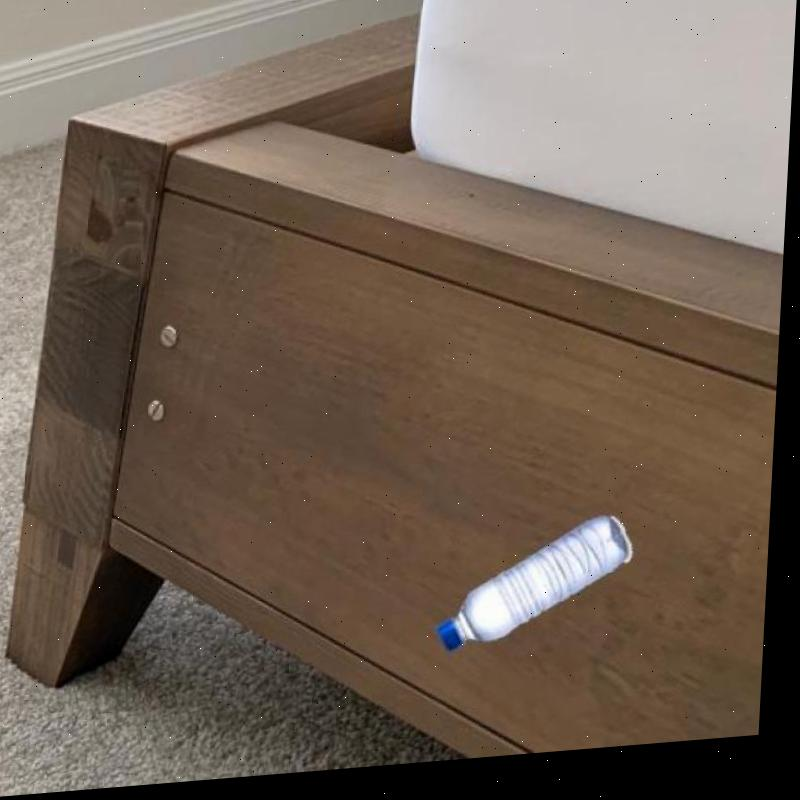botella: (440, 521, 641, 662)
